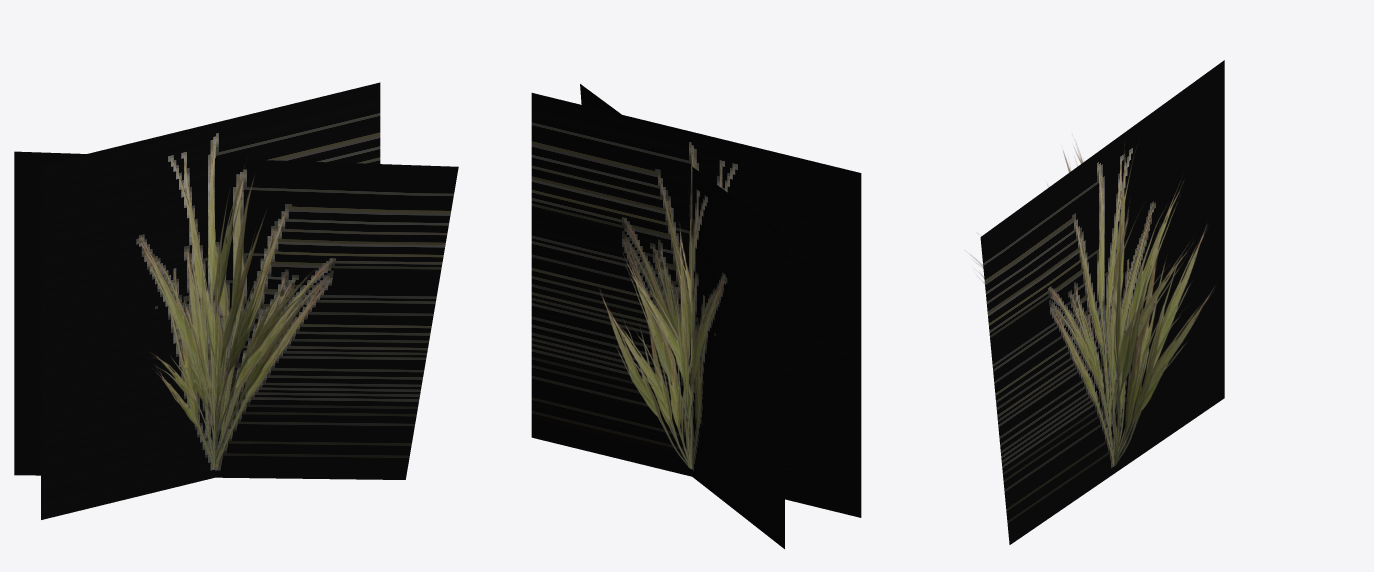
The model's file is plants_grass.glb.
The picture shows the model from 3 angles, left to right: view 1: azimuth 30°, elevation 25°; view 2: azimuth 150°, elevation 25°; view 3: azimuth 270°, elevation 25°; orthographic projection. The views are drawn at different scales.
Parts seen in each view (by area): view 1: Grass-01; view 2: Grass-01; view 3: Grass-01.
Boxes of the visible parts, x1,y1,x2,y2 form: Grass-01: [14, 82, 458, 519]; Grass-01: [531, 84, 861, 548]; Grass-01: [970, 60, 1224, 544].
Bounding box in the file's own units: 1.25 × 1.34 × 1.33.
2 materials, 2 textured.
